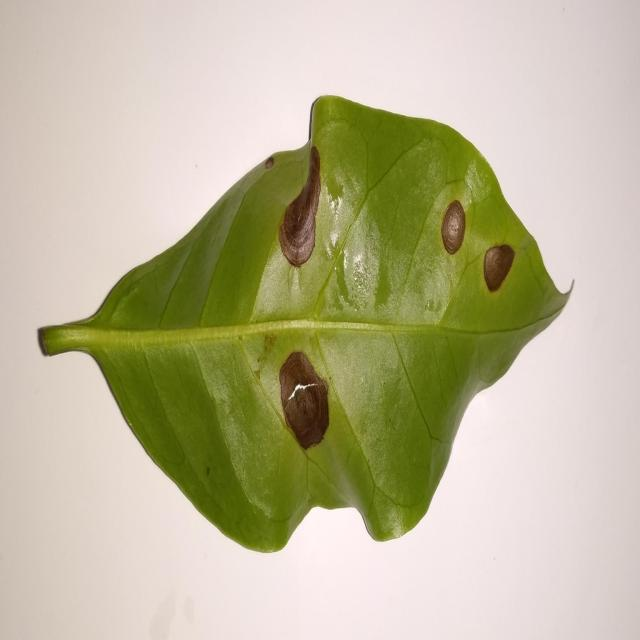phoma: (278, 146, 321, 267), (279, 352, 329, 449), (484, 244, 515, 292), (441, 199, 466, 254)
